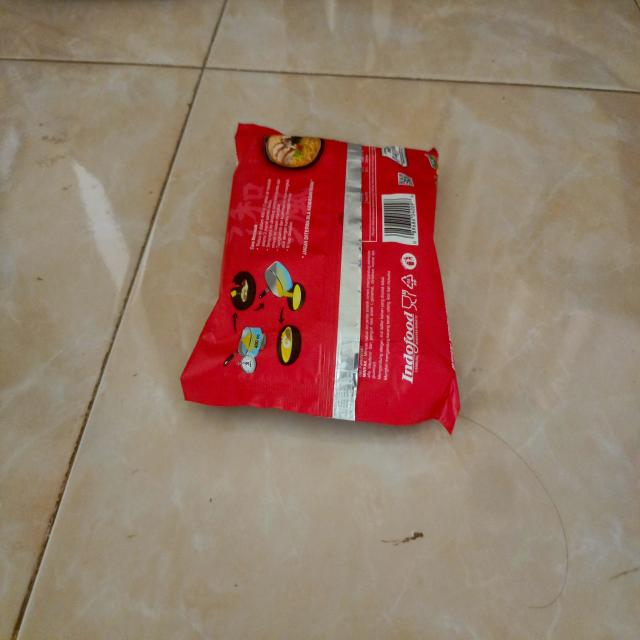indomie-tori-miso: (179, 122, 461, 434)
